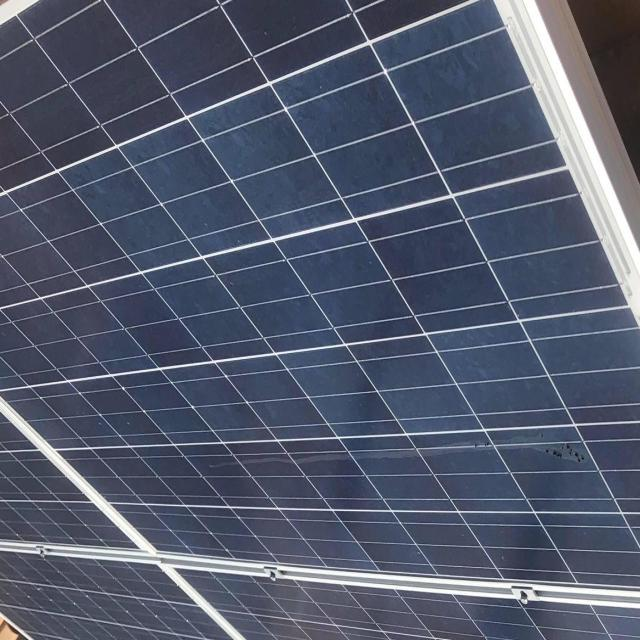soiled: (200, 341, 604, 538)
